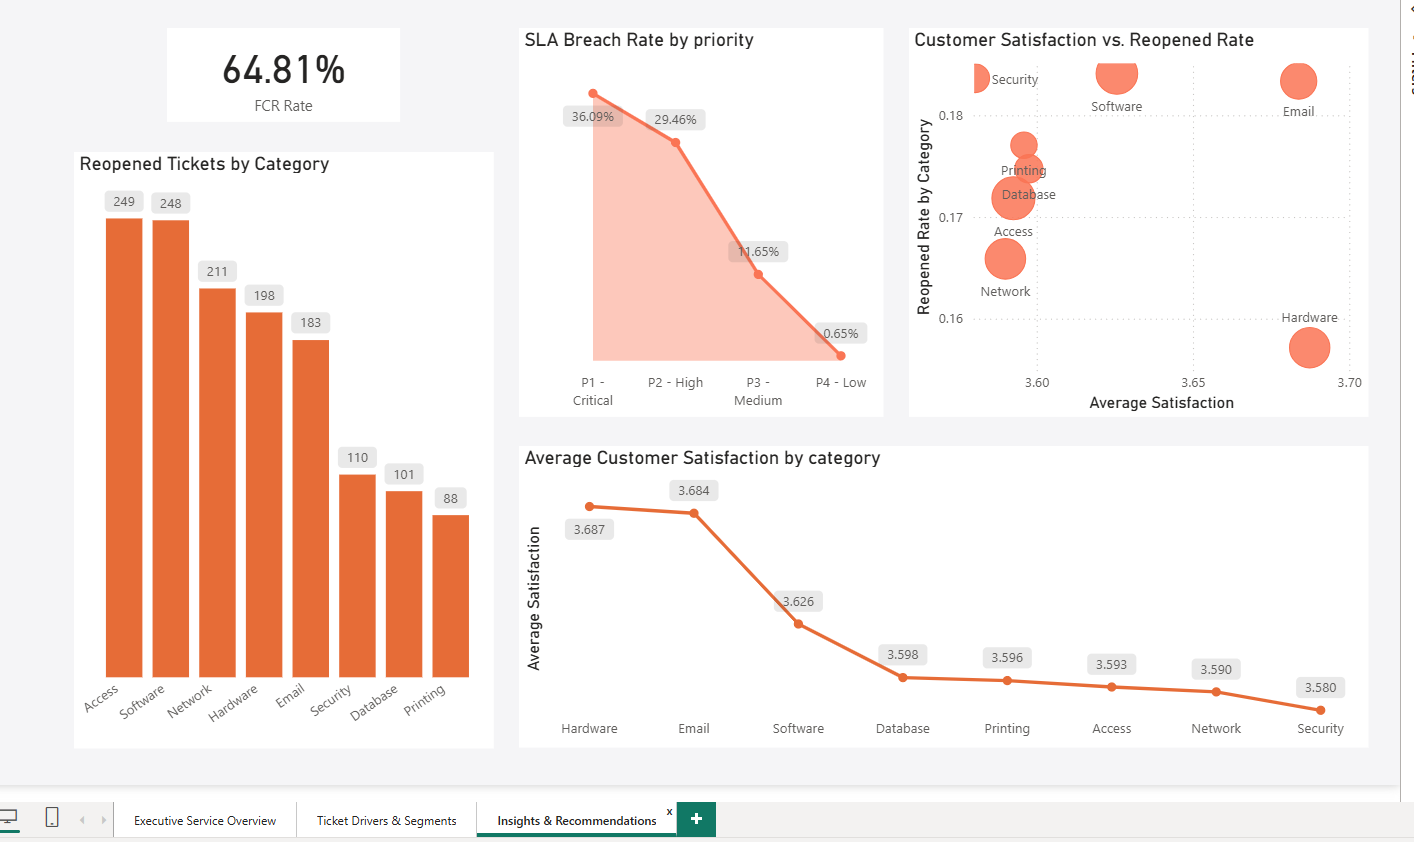

The dashboard page shown, as its layout file describes it:
{"tool":"powerbi","page":{"name":"Insights & Recommendations","canvas":[1280,720],"ordinal":3},"visuals":[{"type":"card","fields":{"Values":["Measures-1.FCR Rate"]},"box":[163.8,34.4,210.9,85.1],"z":0},{"type":"lineChart","title":"Average Customer Satisfaction by category","fields":{"Category":["tickets.category"],"Y":["Measures-1.Average Satisfaction"]},"box":[482.5,412.8,768.5,273.4],"z":1000},{"type":"columnChart","title":"Reopened Tickets by Category ","fields":{"Category":["tickets.category"],"Y":["Measures-1.Reopened Tickets by Category"]},"box":[79.7,146.6,380.2,539.5],"z":2000},{"type":"areaChart","fields":{"Category":["tickets.priority"],"Y":["Measures-1.SLA Breach Rate"]},"box":[482.5,34.4,330.4,352.1],"z":3000},{"type":"scatterChart","title":"Customer Satisfaction vs. Reopened Rate","fields":{"X":["Measures-1.Average Satisfaction"],"Y":["Measures-1.Reopened Rate by Category"],"Category":["tickets.category"],"Size":["Measures-1.Total Tickets"]},"box":[835.5,34.4,415.5,352.1],"z":4000}]}

Visuals, with their boxes on the page's 1280x720 design canvas (x1, y1, x2, y2). These are canvas units, not pixel positions in the 1414x842 screenshot, which may show the page scaled, cropped or inside an application window:
card - Measures-1.FCR Rate: <region>164, 34, 375, 120</region>
"Average Customer Satisfaction by category" lineChart: <region>482, 413, 1251, 686</region>
"Reopened Tickets by Category " columnChart: <region>80, 147, 460, 686</region>
areaChart - tickets.priority x Measures-1.SLA Breach Rate: <region>482, 34, 813, 386</region>
"Customer Satisfaction vs. Reopened Rate" scatterChart: <region>836, 34, 1251, 386</region>
